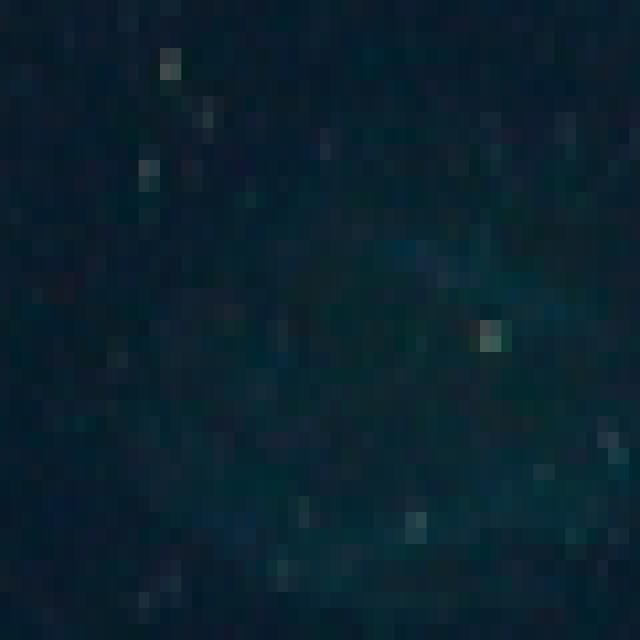fish: (10, 16, 640, 640)
